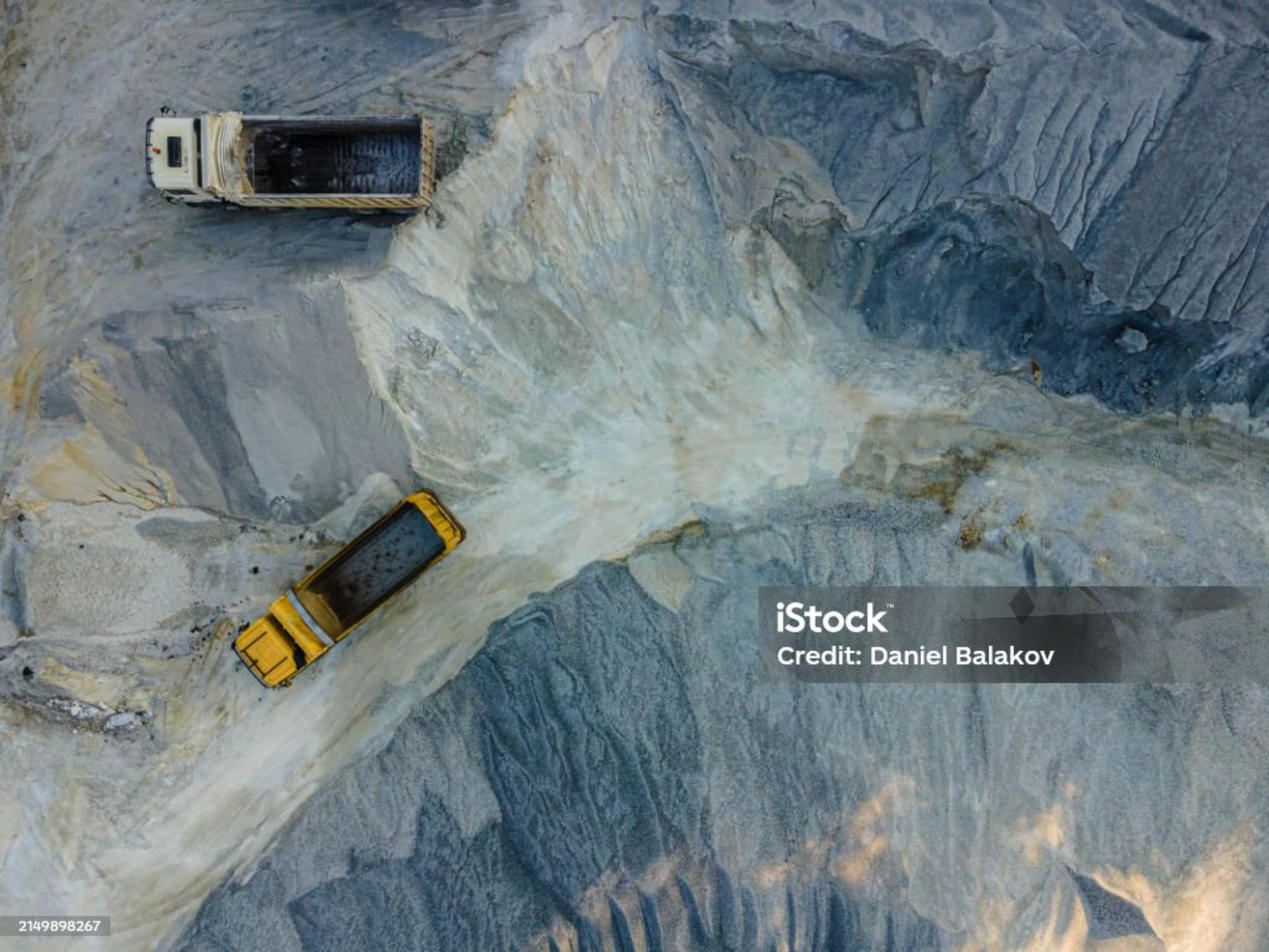benches: (128, 343, 1268, 938)
truck: (221, 481, 487, 684), (126, 99, 465, 217)
wall: (346, 0, 1268, 472)
